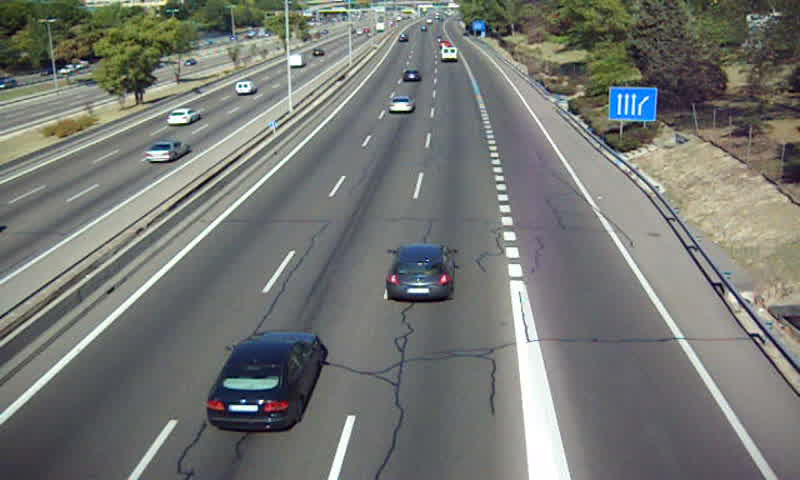car: (207, 333, 323, 429), (387, 245, 451, 300), (388, 95, 415, 113), (402, 69, 421, 85)
van: (441, 46, 459, 63)
